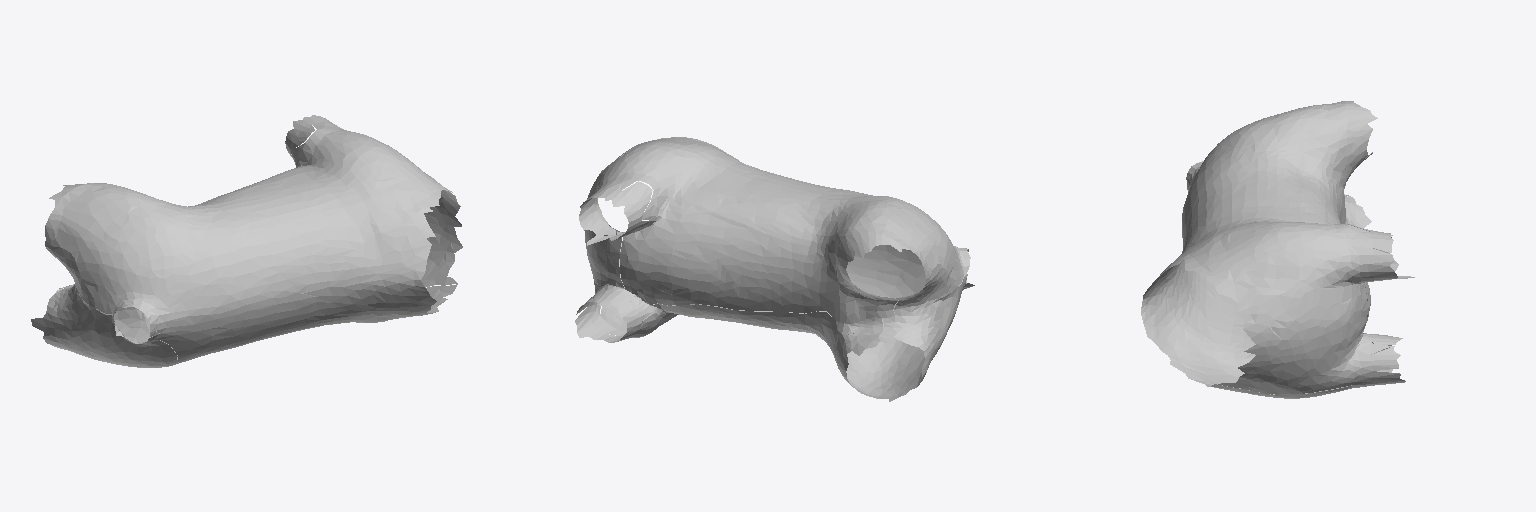
File: mask.obj
The picture shows the model from 3 angles: view 1: azimuth 30°, elevation 25°; view 2: azimuth 150°, elevation 25°; view 3: azimuth 270°, elevation 25°; orthographic projection.
Bounding box in the file's own units: 0.8868 × 0.3766 × 0.5638.